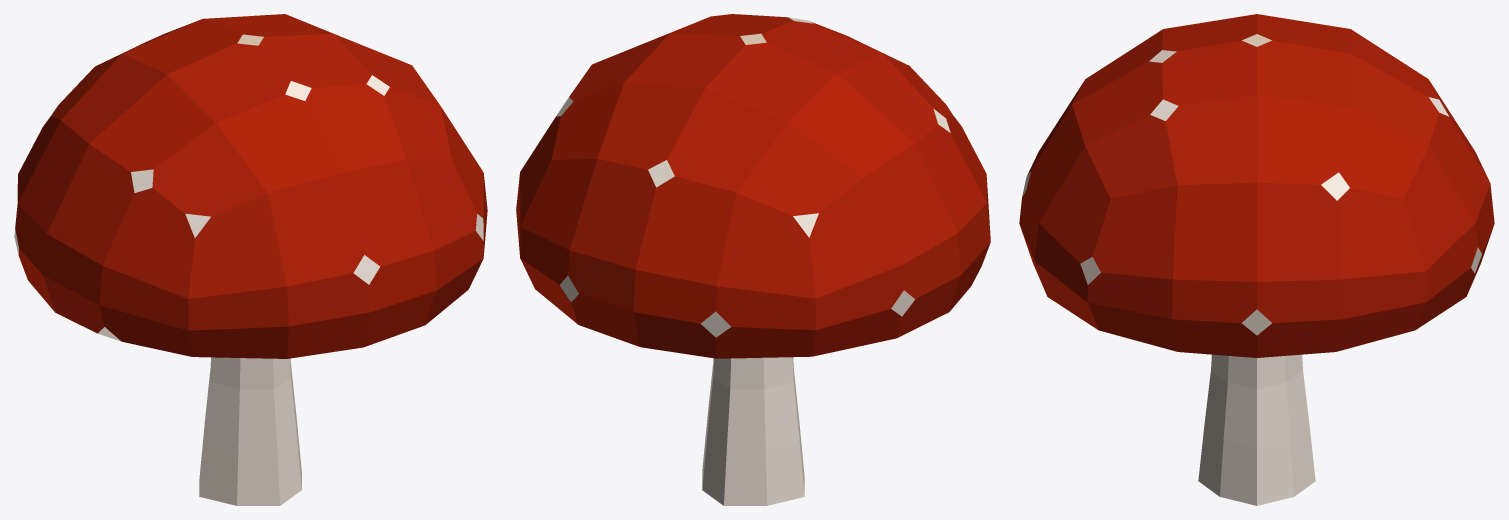
Rendered from mushroom.fbx.
3 views of the same model, side by side, from view 1: azimuth 30°, elevation 25°; view 2: azimuth 150°, elevation 25°; view 3: azimuth 270°, elevation 25° (orthographic).
Visible parts, largest first — view 1: mushroom; view 2: mushroom; view 3: mushroom.
Boxes of the visible parts, x1,y1,x2,y2 form: mushroom: (14, 14, 487, 505); mushroom: (516, 14, 990, 505); mushroom: (1019, 14, 1494, 505).
Size of the model in its own units: 142 by 146 by 142.
